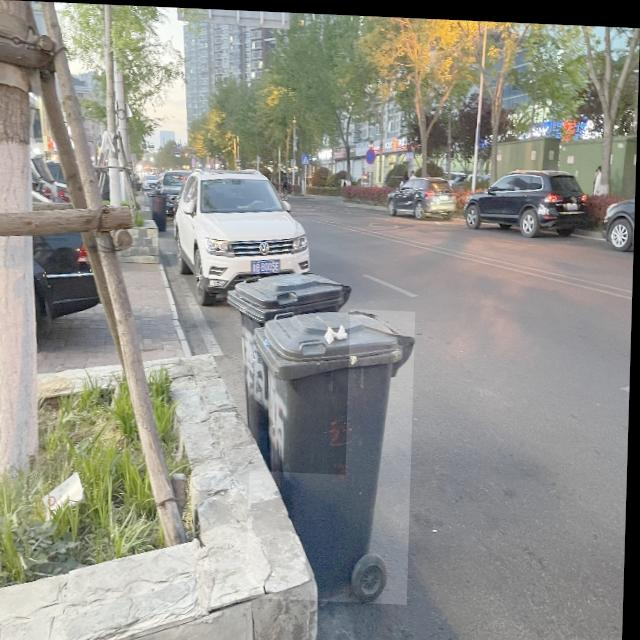garbage_bin: (249, 302, 417, 601), (222, 266, 353, 472)
